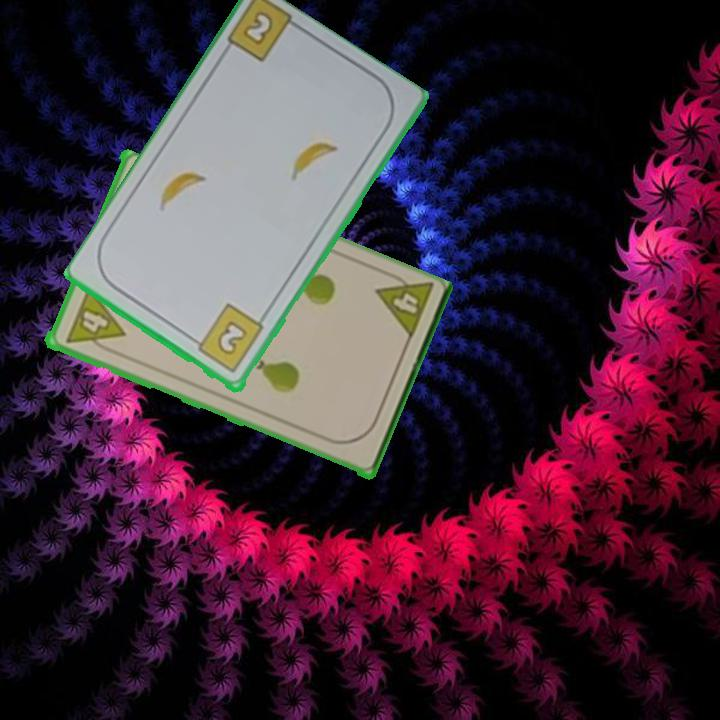2b: (188, 301, 267, 377), (239, 7, 277, 49)
4p: (371, 266, 436, 344), (61, 285, 127, 358)
